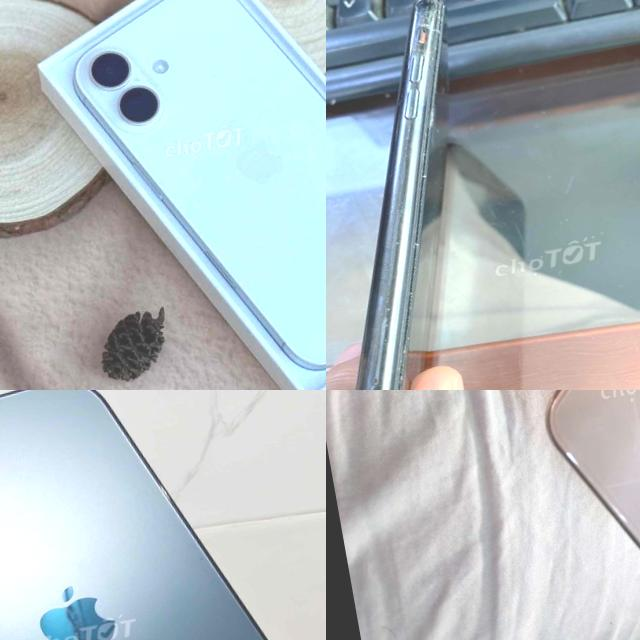gen_11: (326, 0, 528, 390)
gen_12_13: (0, 390, 326, 640)
gen_17: (48, 0, 326, 390)
gen_x_xs: (491, 390, 640, 621)
scratch: (337, 298, 419, 390), (404, 0, 448, 45), (406, 94, 442, 135), (392, 215, 422, 251), (402, 151, 429, 184)
